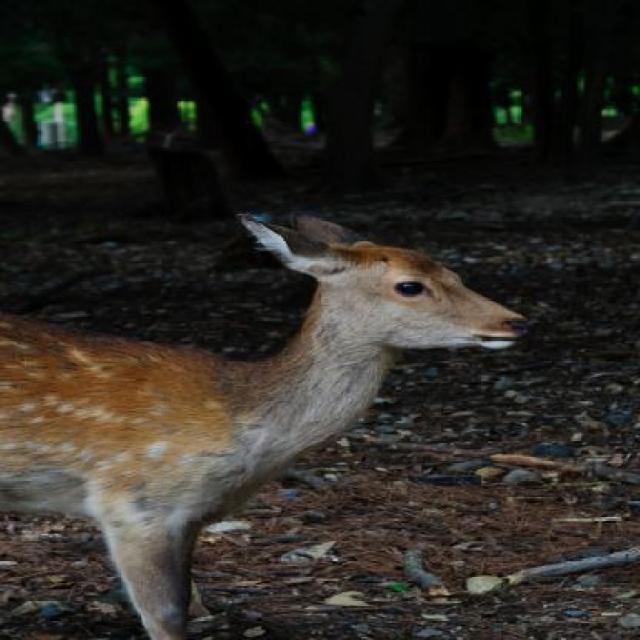Deer: (0, 210, 528, 638)
